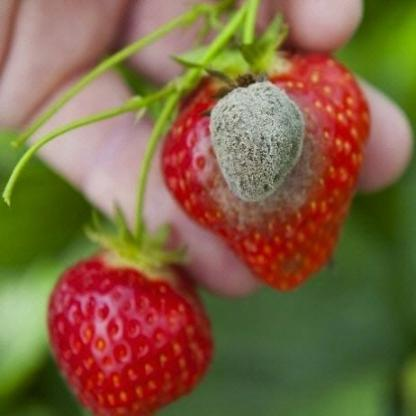Strawberry_Gray_Mold: (196, 80, 326, 233)
